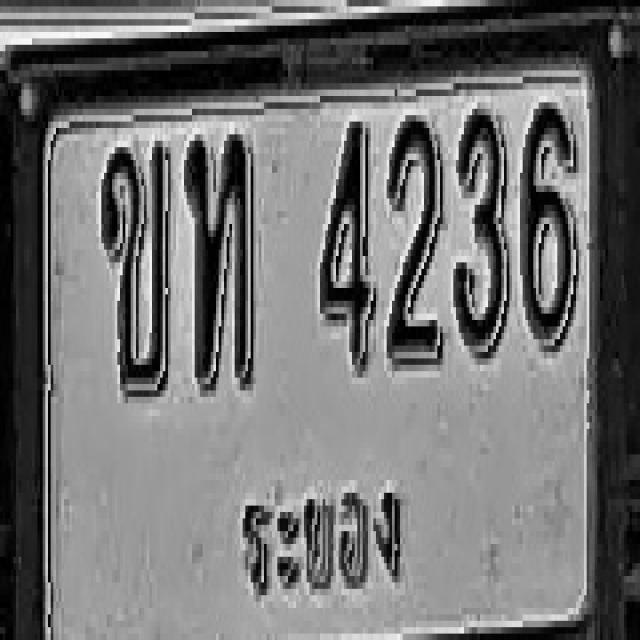11KhorKhai: (100, 138, 169, 394)
2: (387, 112, 442, 355)
3: (453, 106, 507, 355)
32ThorThaHan: (185, 131, 255, 387)
4: (320, 115, 373, 365)
6: (521, 100, 575, 342)
Rayong: (235, 459, 411, 608)
